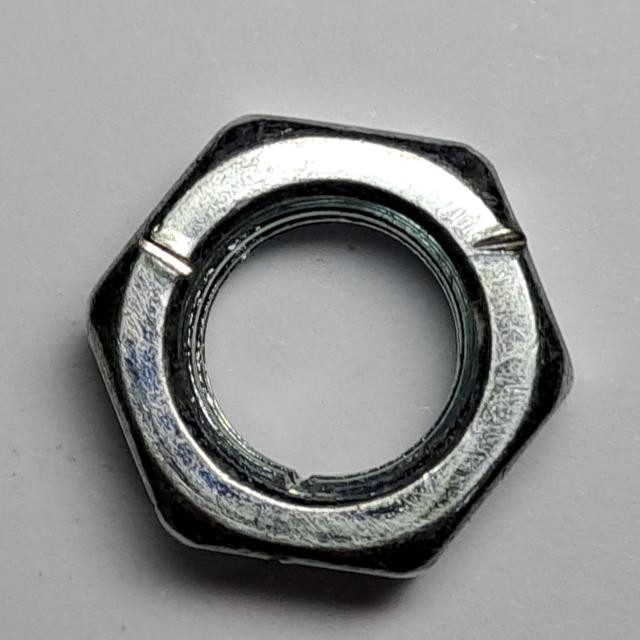Scratches: (68, 102, 586, 590)
